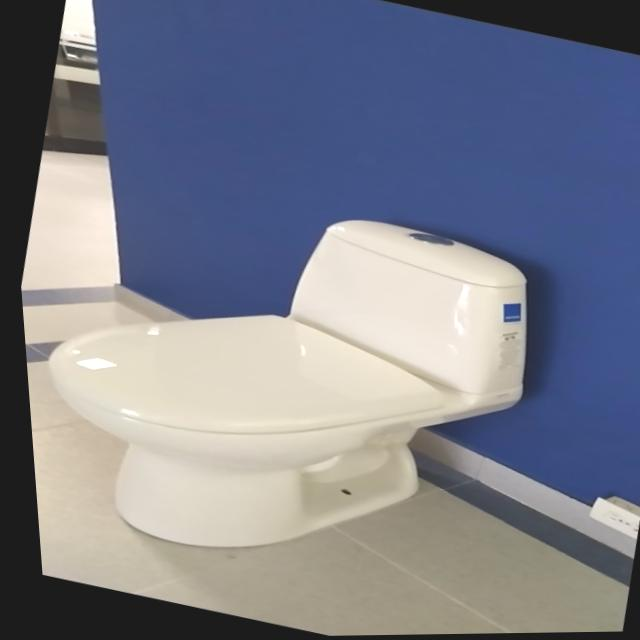toilet: (9, 151, 560, 615)
